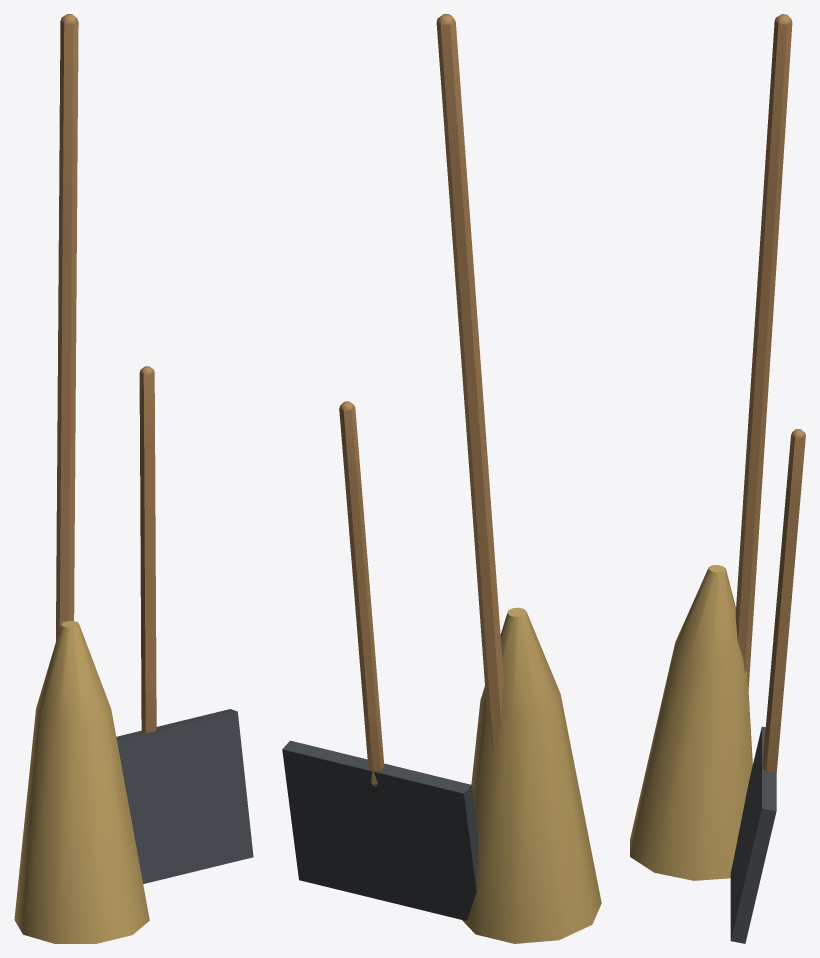
Rendered from broom_set.glb.
The picture shows the model from 3 angles, left to right: view 1: azimuth 30°, elevation 25°; view 2: azimuth 150°, elevation 25°; view 3: azimuth 270°, elevation 25°; orthographic projection. The views are drawn at different scales.
Parts seen in each view (by area): view 1: BroomSet; view 2: BroomSet; view 3: BroomSet.
Boxes of the visible parts, <box> form: BroomSet: <box>14,14,253,943</box>; BroomSet: <box>282,14,601,943</box>; BroomSet: <box>630,14,805,943</box>.
Bounding box in the file's own units: 0.38 × 1.27 × 0.2353.
